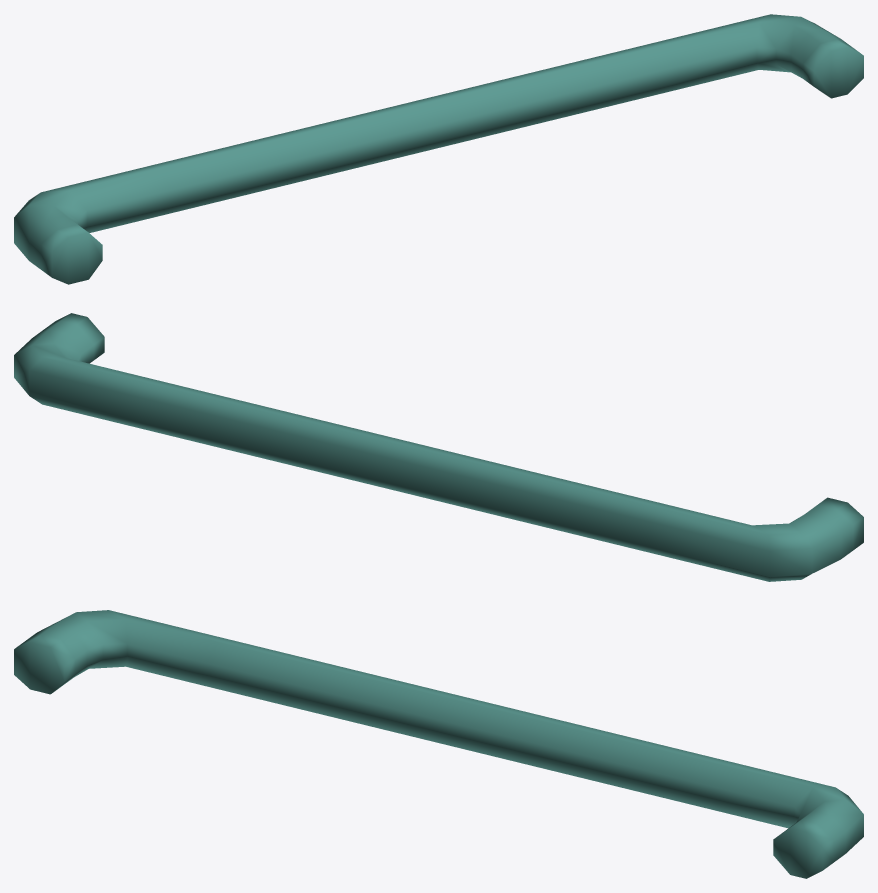
The model's file is Container_Waterpipe_1.fbx.
The picture shows the model from 3 angles, top to bottom: view 1: azimuth 30°, elevation 25°; view 2: azimuth 150°, elevation 25°; view 3: azimuth 330°, elevation 25°; orthographic projection.
Visible parts, largest first — view 1: pasted__pCube35; view 2: pasted__pCube35; view 3: pasted__pCube35.
Boxes of the visible parts, bbox=[...] form: pasted__pCube35: bbox=[14, 14, 863, 284]; pasted__pCube35: bbox=[14, 313, 863, 581]; pasted__pCube35: bbox=[14, 610, 863, 878].
Size of the model in its own units: 1.6 by 0.0891 by 0.2013.
